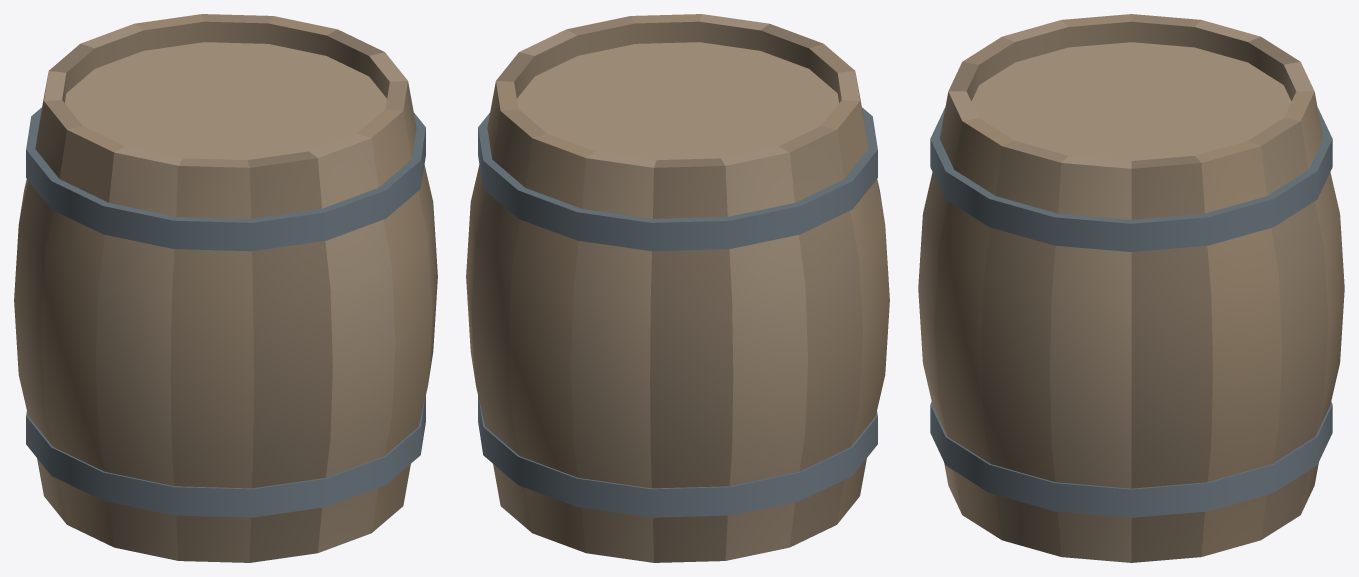
File: Barrel Final.fbx
3 renders of one model, left to right at view 1: azimuth 30°, elevation 25°; view 2: azimuth 150°, elevation 25°; view 3: azimuth 270°, elevation 25°, orthographic.
Parts seen in each view (by area): view 1: pCylinder2; view 2: pCylinder2; view 3: pCylinder2.
Part boxes in pixels (left/top/right/bottom): pCylinder2: left=14, top=14, right=437, bottom=562; pCylinder2: left=466, top=14, right=889, bottom=562; pCylinder2: left=918, top=14, right=1344, bottom=562.
Size of the model in its own units: 12.82 by 13.07 by 12.82.
